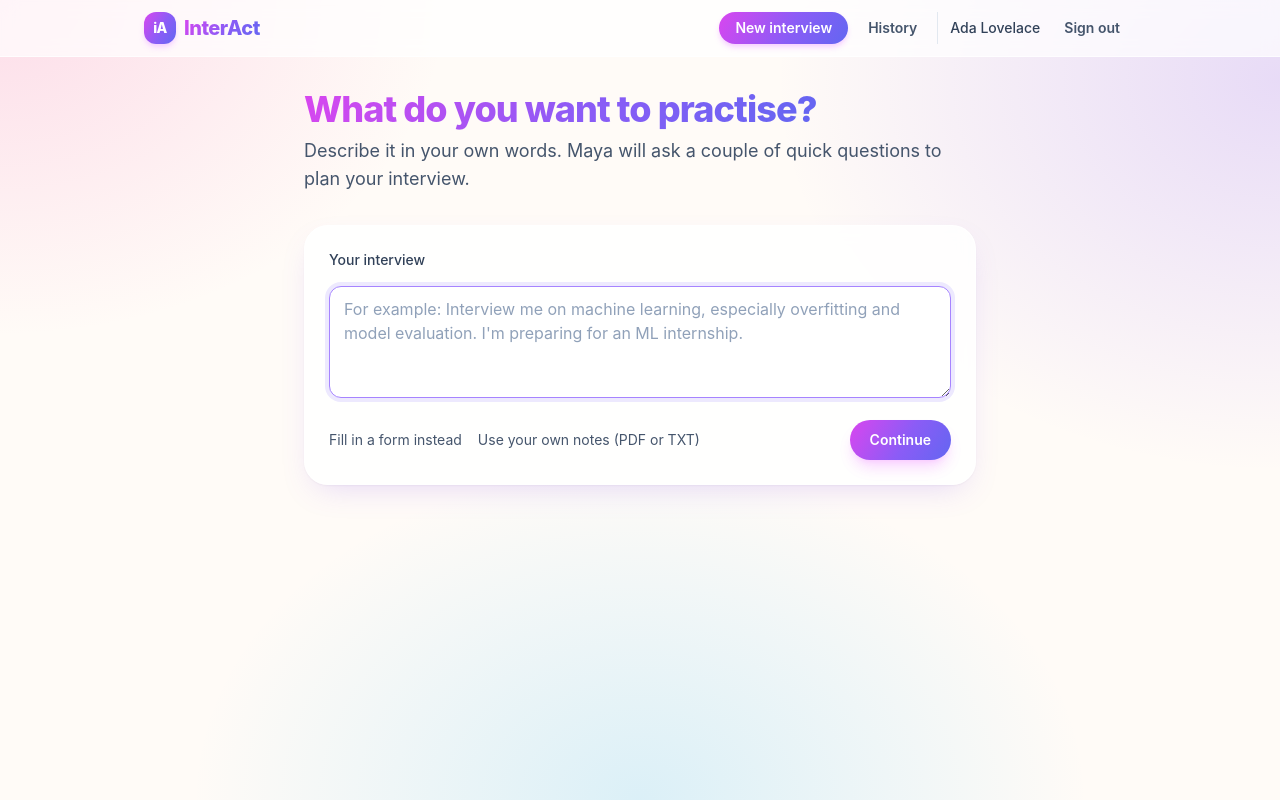
describing the interview › creates the session, sends the request and opens the chat
The width and height of the screenshot is (1280, 800).
Type "Interview me on machine learning for an ML internship." into the text box labelled "Your interview" at [640, 342], box [329,286,951,398]
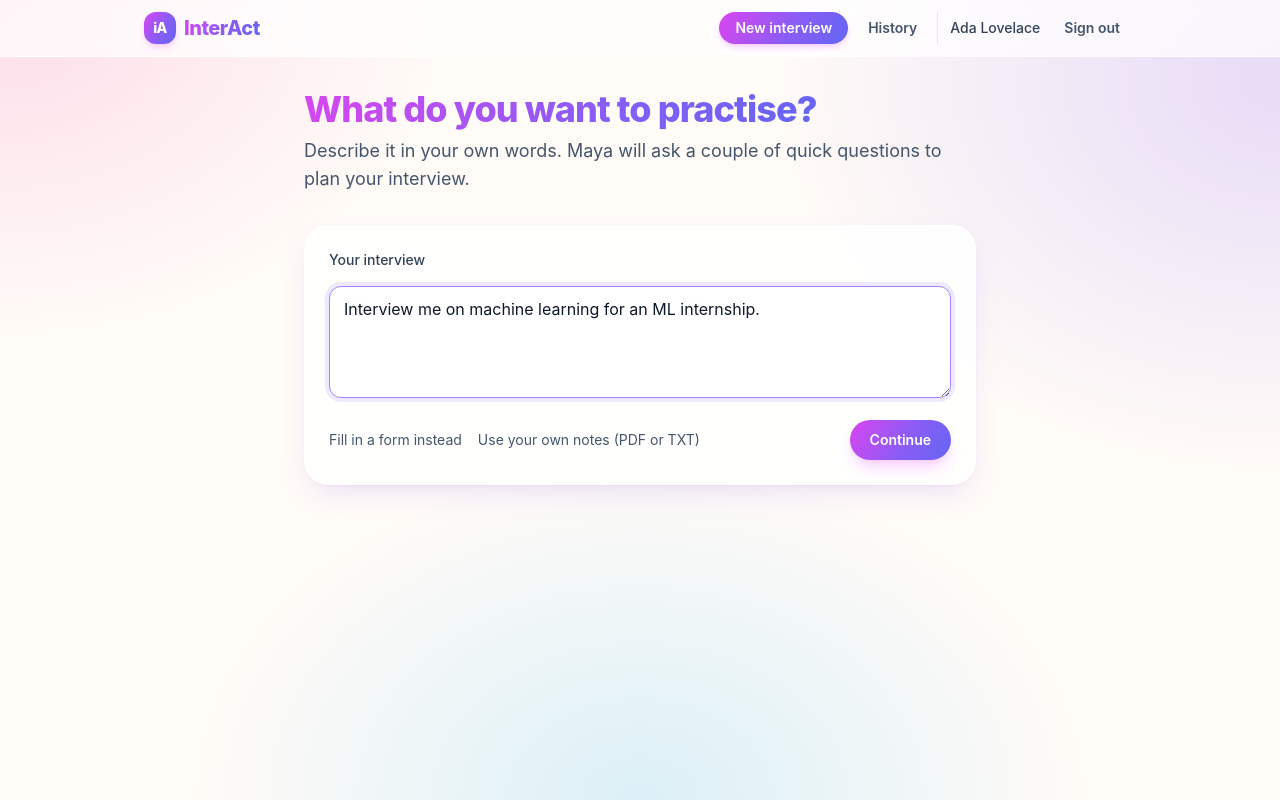
Click the button "Continue" at [900, 440], box [850,420,951,460]
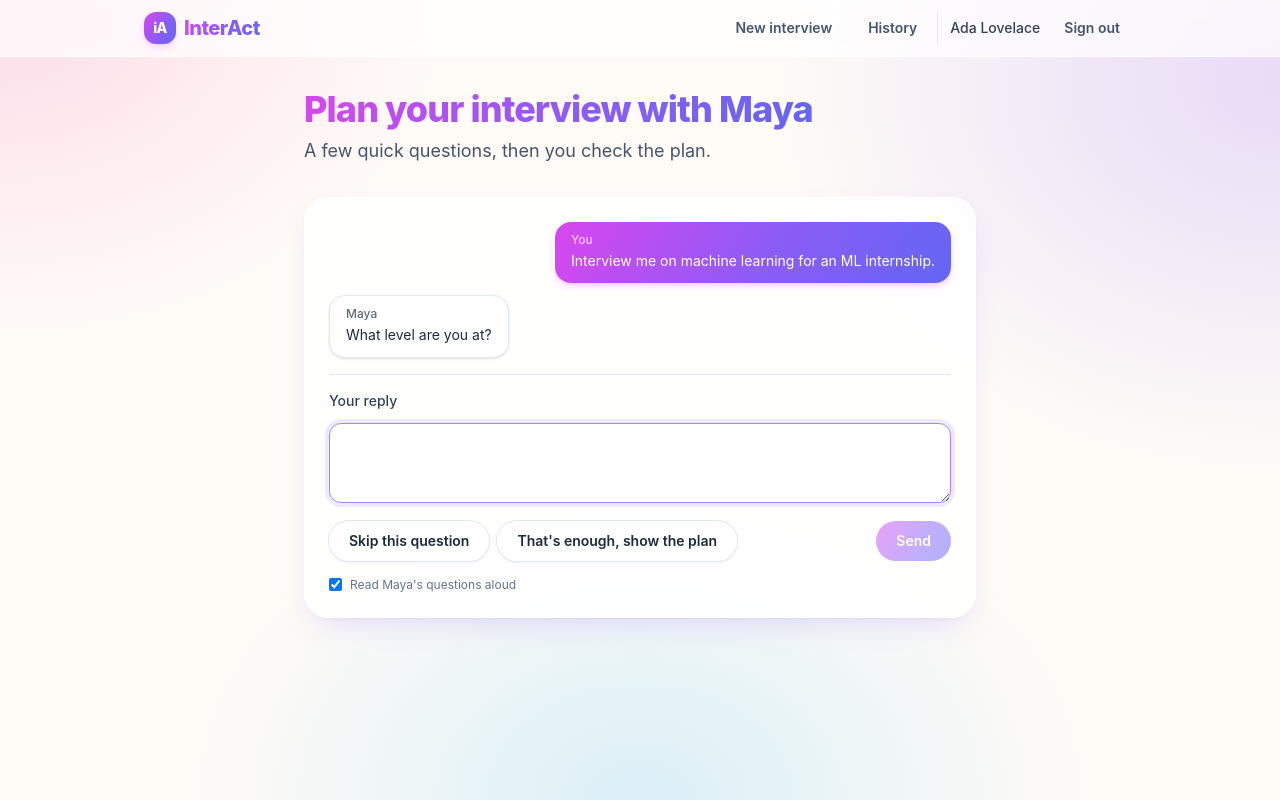
Check: the text "Interview me on machine learning for an ML internship." is shown, box [571,250,935,273]
Check: the text "What level are you at?" is shown, box [346,324,492,347]
